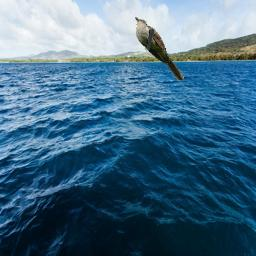Cuckoo: (135, 17, 184, 81)
